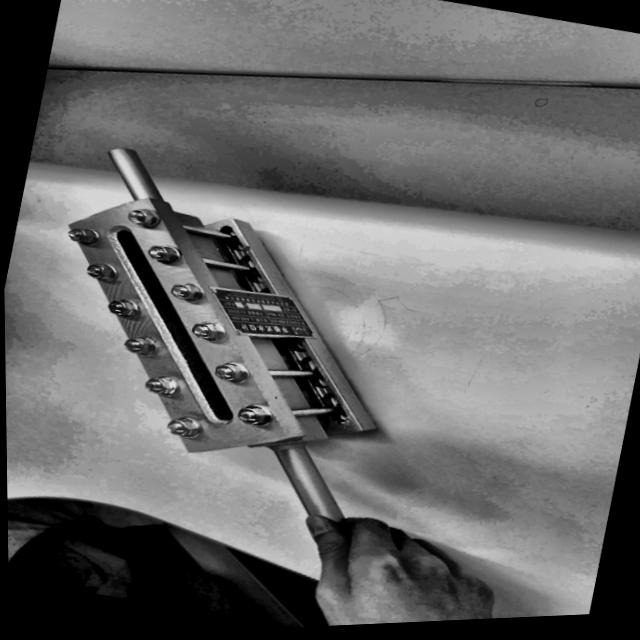ShuiWeiQi_12: (2, 119, 410, 551)
